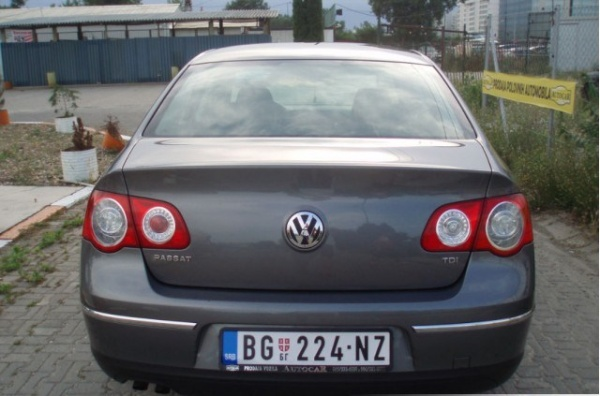licence: (219, 322, 397, 369)
